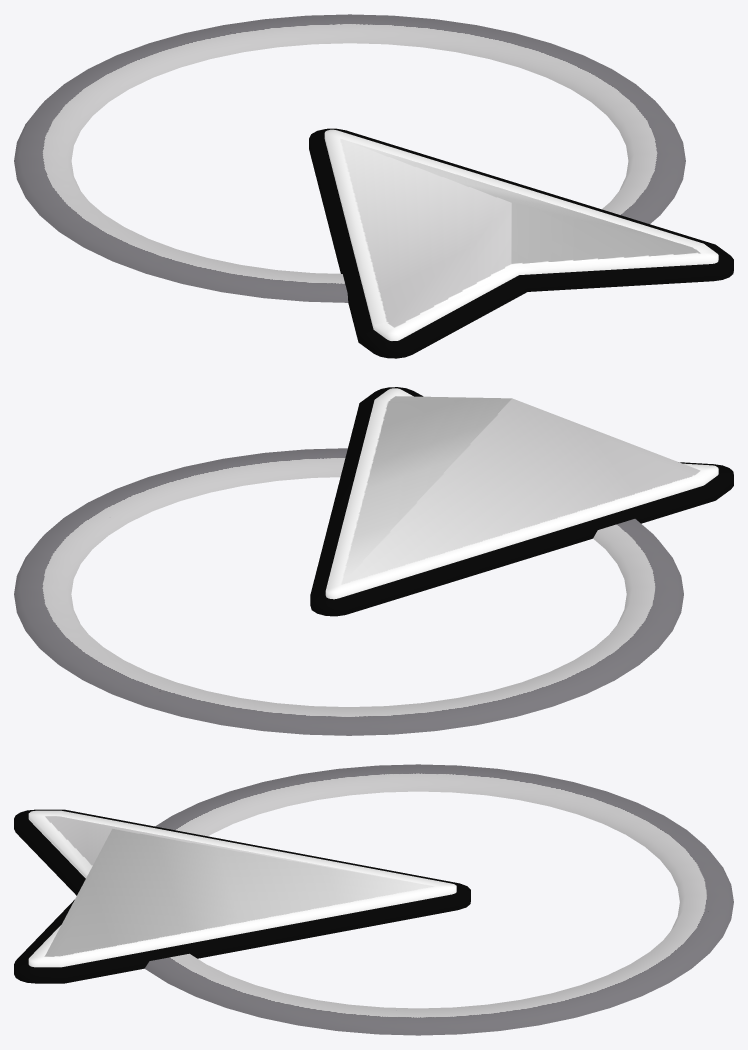
The model's file is porsche_puck_1k.glb.
3 renders of one model, top to bottom at view 1: azimuth 30°, elevation 25°; view 2: azimuth 150°, elevation 25°; view 3: azimuth 270°, elevation 25°, orthographic. The views are drawn at different scales.
Visible parts, largest first — view 1: porsche_puck; view 2: porsche_puck; view 3: porsche_puck.
Boxes of the visible parts, box(x1,y1,x2,y2) form: porsche_puck: box(14, 14, 733, 358); porsche_puck: box(14, 387, 733, 735); porsche_puck: box(14, 764, 733, 1035).
Bounding box in the file's own units: 85.2 × 10.86 × 97.14.
Materials: 2 (2 with a texture image).
